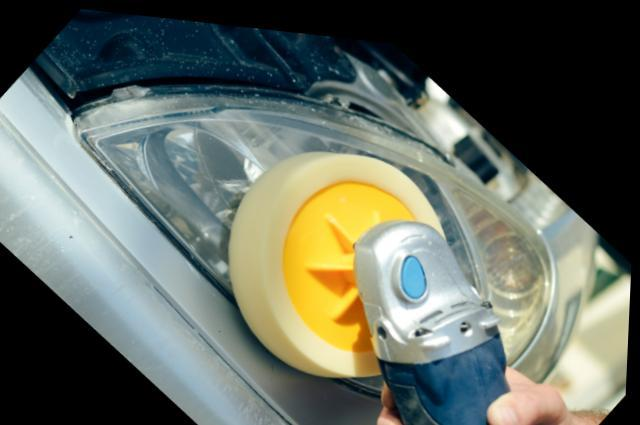scratch: (205, 355, 299, 425)
